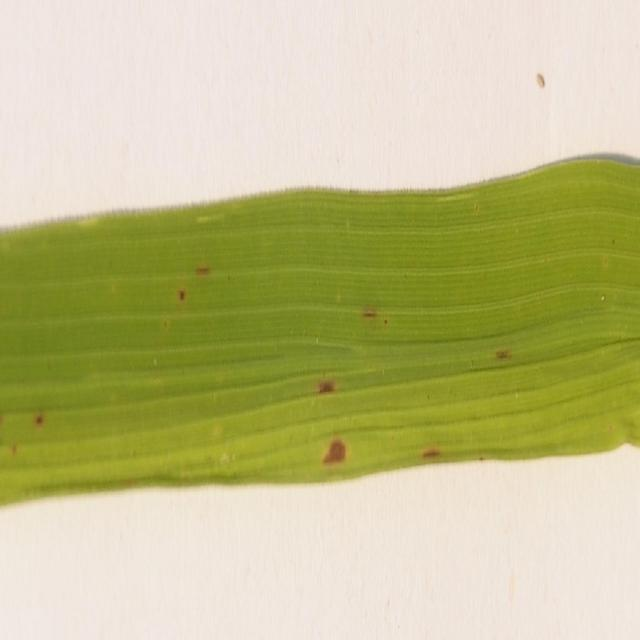Brown spot: (312, 424, 348, 484), (348, 294, 392, 338), (306, 358, 342, 410), (416, 424, 450, 464), (162, 272, 195, 312), (29, 396, 54, 448), (486, 338, 516, 374), (190, 259, 228, 279)
